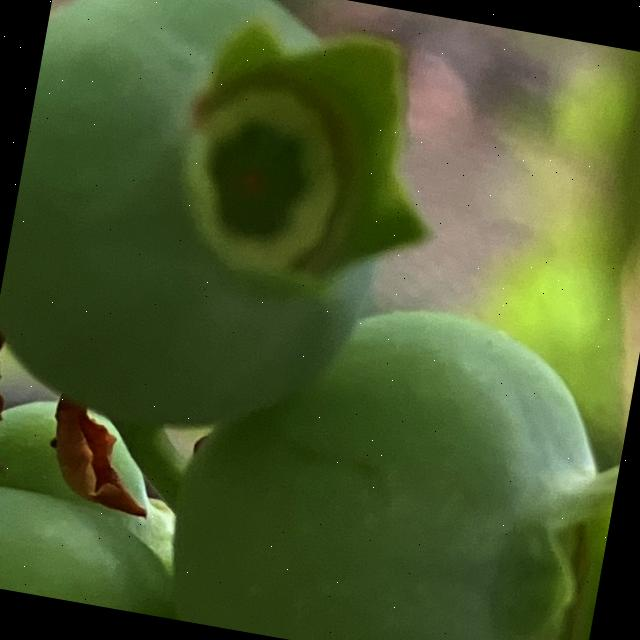Blueberries: (0, 0, 462, 470), (149, 266, 640, 640)
